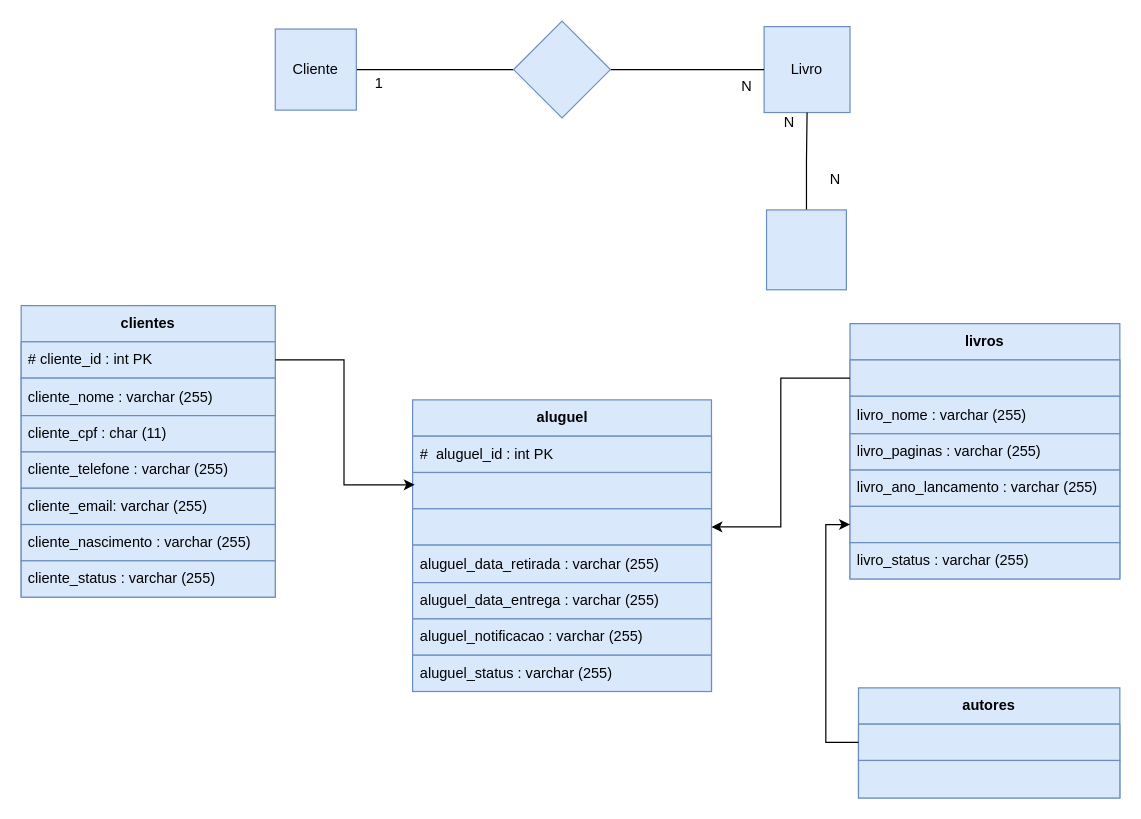
The diagram is 1141 pixels wide and 819 high, and some of its shapes have lost their labels. The centre of each missing label's shape, as x and y in pixels:
"# autor_id : int PK" belongs at (x=988, y=741).
"# cliente_id : int FK" belongs at (x=561, y=490).
"# livro_id : int FK" belongs at (x=561, y=526).
"# livro_id : int PK" belongs at (x=984, y=377).
"Alugar" belongs at (x=561, y=69).
"Autor" belongs at (x=805, y=249).
"autor_nome : varchar (255)" belongs at (x=988, y=778).
"livro_autor : int FK" belongs at (x=984, y=524).
